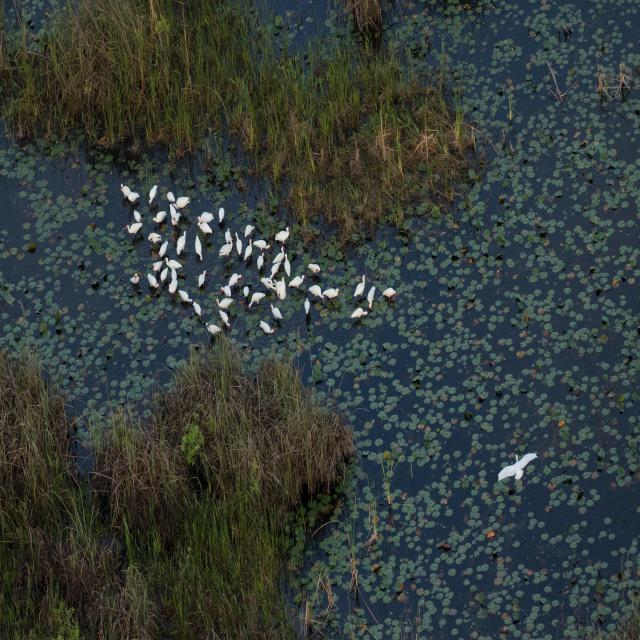bird: (497, 442, 538, 489), (352, 271, 369, 301), (275, 225, 295, 248), (220, 236, 236, 261), (118, 184, 139, 203), (246, 290, 265, 310), (307, 284, 323, 303), (175, 232, 187, 256), (252, 237, 270, 253), (212, 297, 234, 310), (274, 276, 287, 298), (349, 309, 368, 324), (280, 253, 292, 276), (228, 271, 245, 287), (256, 318, 274, 333), (147, 179, 158, 203), (120, 225, 144, 236), (150, 209, 166, 225), (192, 236, 202, 261), (366, 285, 375, 312), (244, 236, 254, 260), (167, 270, 179, 289), (195, 270, 207, 289), (204, 321, 220, 335), (380, 286, 394, 302), (308, 263, 324, 277), (271, 248, 285, 264), (196, 210, 213, 223), (161, 259, 181, 270), (235, 231, 244, 255), (302, 297, 312, 318), (173, 197, 192, 208), (220, 284, 233, 300), (196, 222, 213, 234), (217, 312, 229, 329), (270, 302, 281, 320), (176, 288, 191, 301), (289, 275, 304, 288), (323, 287, 339, 299), (216, 205, 225, 226), (145, 273, 157, 288), (189, 301, 200, 317), (144, 232, 163, 241), (168, 208, 178, 225), (157, 240, 167, 257), (262, 279, 274, 292), (244, 222, 255, 236), (268, 260, 278, 274), (157, 269, 167, 282), (166, 192, 176, 203), (129, 274, 140, 284), (130, 212, 140, 222), (150, 261, 160, 271), (242, 285, 249, 295), (224, 227, 230, 238)
